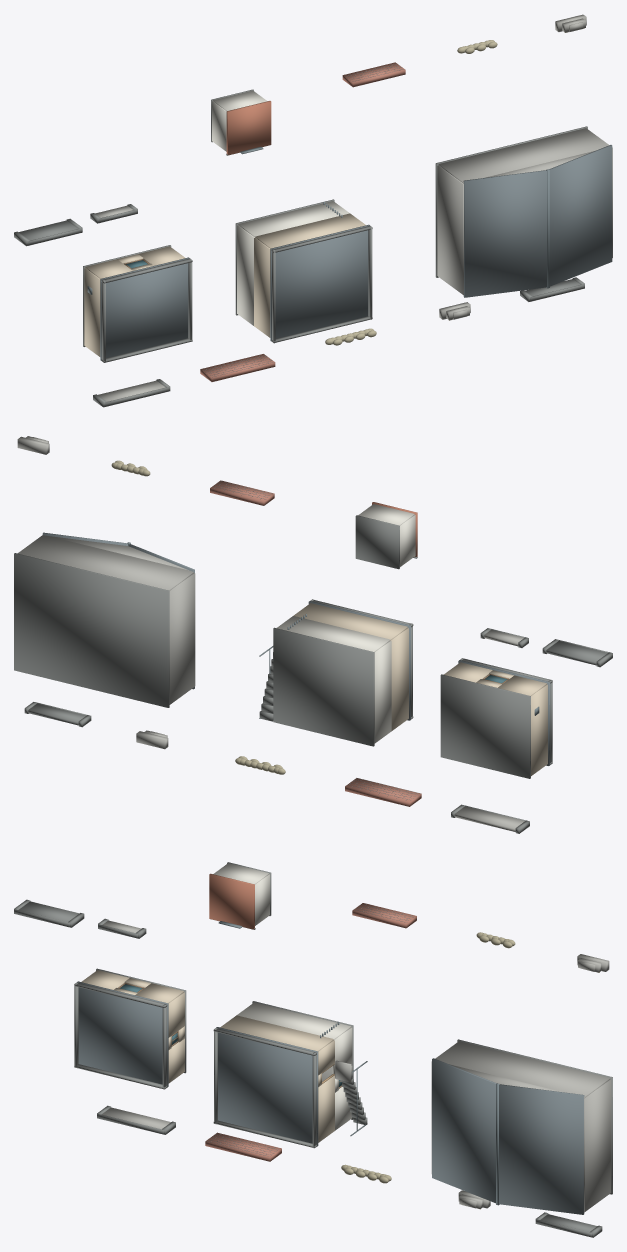
Rendered from Tactical_FPS_Buildings.glb.
3 renders of one model, top to bottom at view 1: azimuth 30°, elevation 25°; view 2: azimuth 150°, elevation 25°; view 3: azimuth 330°, elevation 25°, orthographic. The views are drawn at different scales.
Parts seen in each view (by area): view 1: Warehouse_Roof_Left_Slope, House_B_Roof_Slab, Warehouse_Roof_Right_Slope, House_A_Roof_Slab, Warehouse_Back_Wall, Warehouse_Left_Wall, Guard_Shack_Flat_Roof, House_B_Ground_Back, House_B_Upper_Back, House_B_Ground_Left, House_B_Upper_Left, House_A_Left_Wall (+9 smaller); view 2: Warehouse_Foundation, House_B_Foundation, House_A_Foundation, Warehouse_Back_Wall, Warehouse_Left_Wall, Guard_Shack_Foundation, House_B_Upper_Back, House_B_Ground_Back, House_B_Upper_Left, House_B_Ground_Left, House_A_Left_Wall, Cover_Brick_Wall_A_Brick_Core (+9 smaller); view 3: Warehouse_Roof_Right_Slope, House_B_Roof_Slab, Warehouse_Roof_Left_Slope, House_A_Roof_Slab, Warehouse_Back_Wall, Warehouse_Right_Wall, Guard_Shack_Flat_Roof, House_B_Ground_Back, House_B_Upper_Back, Cover_Brick_Wall_A_Brick_Core, House_B_Upper_Right_Front, Cover_Brick_Wall_B_Brick_Core (+12 smaller).
Boxes of the visible parts, x1,y1,x2,y2 form: Warehouse_Roof_Left_Slope: (463,170,546,297); House_B_Roof_Slab: (270,224,369,341); Warehouse_Roof_Right_Slope: (549,145,612,286); House_A_Roof_Slab: (100,257,189,360); Warehouse_Back_Wall: (438,128,609,183); Warehouse_Left_Wall: (437,165,463,294); Guard_Shack_Flat_Roof: (226,101,271,155); House_B_Ground_Back: (238,201,349,237); House_B_Upper_Back: (255,213,365,248); House_B_Ground_Left: (237,225,254,325); House_B_Upper_Left: (254,238,270,337); House_A_Left_Wall: (84,268,100,356); Warehouse_Foundation: (14,553,169,707); House_B_Foundation: (273,627,374,746); House_A_Foundation: (440,674,530,778); Warehouse_Back_Wall: (17,535,193,590); Warehouse_Left_Wall: (169,573,195,704); Guard_Shack_Foundation: (355,515,399,569); House_B_Upper_Back: (293,603,407,640); House_B_Ground_Back: (276,616,390,651); House_B_Upper_Left: (390,628,408,730); House_B_Ground_Left: (374,641,391,743); House_A_Left_Wall: (531,684,547,775); Cover_Brick_Wall_A_Brick_Core: (345,778,421,806); Warehouse_Roof_Right_Slope: (499,1084,584,1214); House_B_Roof_Slab: (216,1027,318,1146); Warehouse_Roof_Left_Slope: (432,1058,496,1203); House_A_Roof_Slab: (77,981,168,1087); Warehouse_Back_Wall: (435,1041,610,1098); Warehouse_Right_Wall: (584,1079,611,1211); Guard_Shack_Flat_Roof: (209,873,254,929); House_B_Ground_Back: (237,1002,351,1039); House_B_Upper_Back: (220,1015,333,1051); Cover_Brick_Wall_A_Brick_Core: (205,1132,281,1161); House_B_Upper_Right_Front: (318,1075,334,1142); Cover_Brick_Wall_B_Brick_Core: (352,903,416,928).
Bounding box in the file's own units: 54.34 × 24.88 × 6.34.
